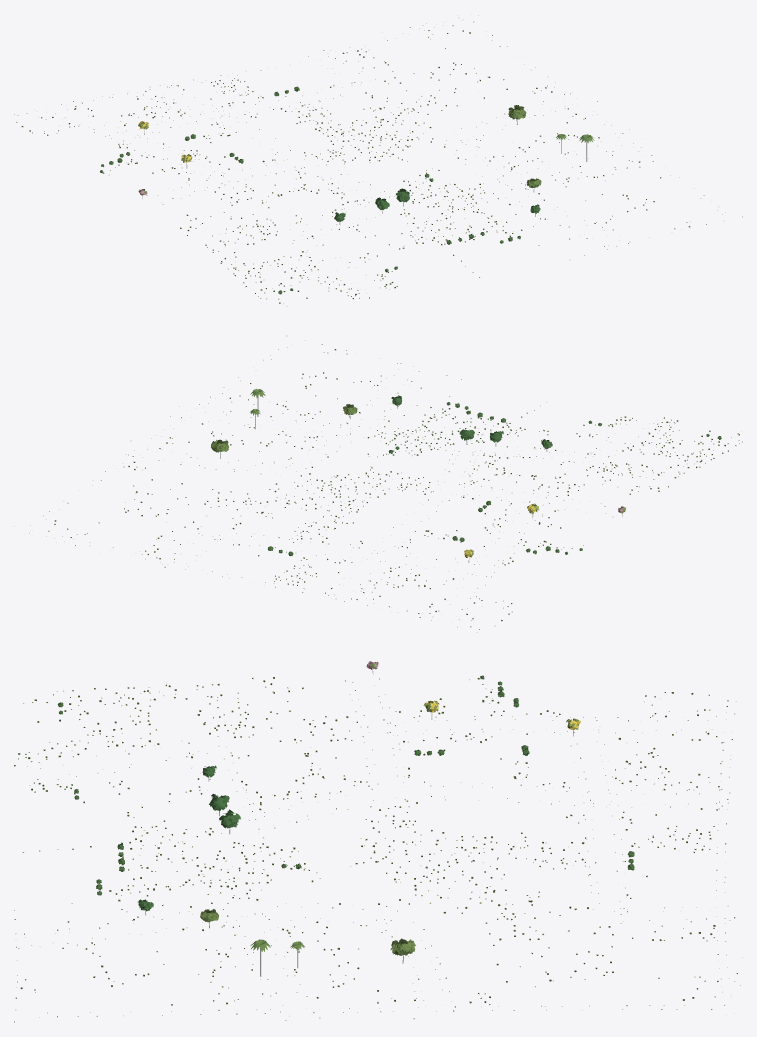
The model's file is Vegetation.fbx.
3 views of the same model, one above another, from view 1: azimuth 30°, elevation 25°; view 2: azimuth 150°, elevation 25°; view 3: azimuth 270°, elevation 25° (orthographic). The views are drawn at different scales.
Visible parts, largest first — view 1: EXPORT_OT_Vegetation_SA_M01_01_S00_03; view 2: EXPORT_OT_Vegetation_SA_M01_01_S00_03; view 3: EXPORT_OT_Vegetation_SA_M01_01_S00_03.
Boxes of the visible parts, box(x1,y1,x2,y2) form: EXPORT_OT_Vegetation_SA_M01_01_S00_03: box(14, 15, 742, 306); EXPORT_OT_Vegetation_SA_M01_01_S00_03: box(14, 344, 742, 632); EXPORT_OT_Vegetation_SA_M01_01_S00_03: box(14, 661, 742, 1022).
Size of the model in its own units: 250 by 23.25 by 250.
